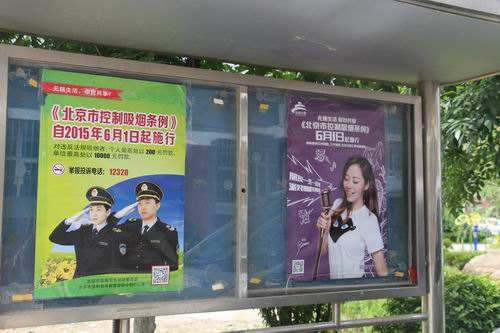bill: (35, 67, 186, 299), (285, 94, 409, 280)
